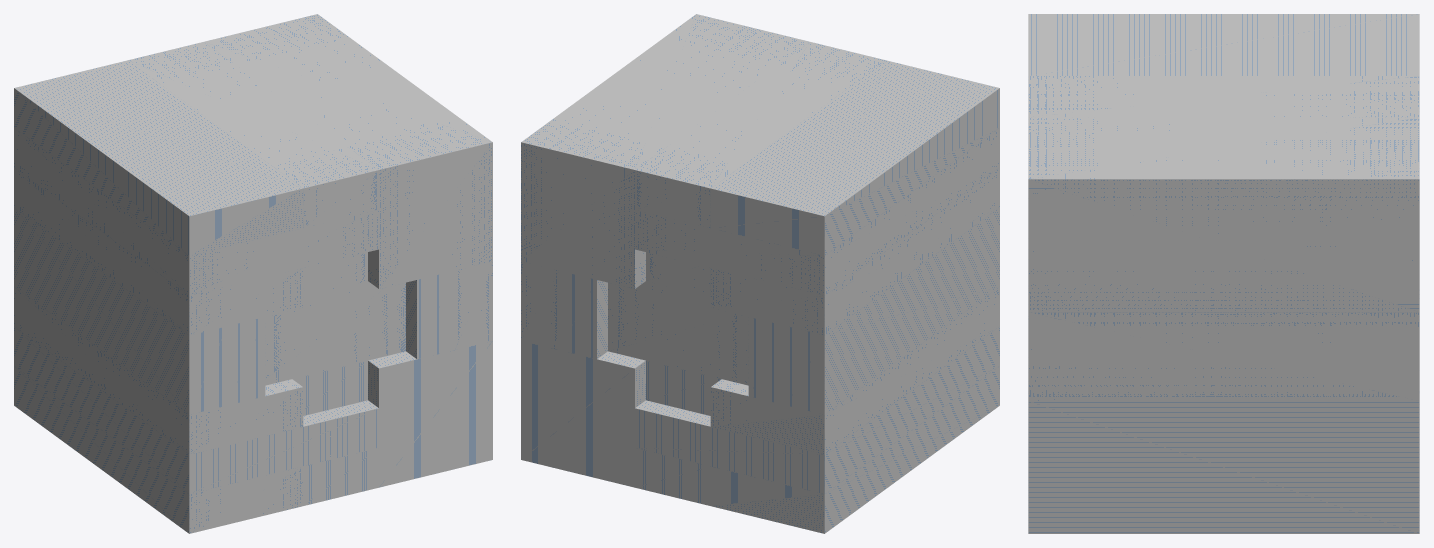
Rendered from coal-block.fbx.
3 views of the same model, side by side, from view 1: azimuth 30°, elevation 25°; view 2: azimuth 150°, elevation 25°; view 3: azimuth 270°, elevation 25° (orthographic). The views are drawn at different scales.
Parts seen in each view (by area): view 1: generated; view 2: generated; view 3: generated.
Part boxes in pixels (<box>): generated: <box>14,14,492,533</box>; generated: <box>521,14,999,533</box>; generated: <box>1028,14,1419,533</box>.
Bounding box in the file's own units: 80 × 80 × 80.
Materials: 1 (1 with a texture image).
